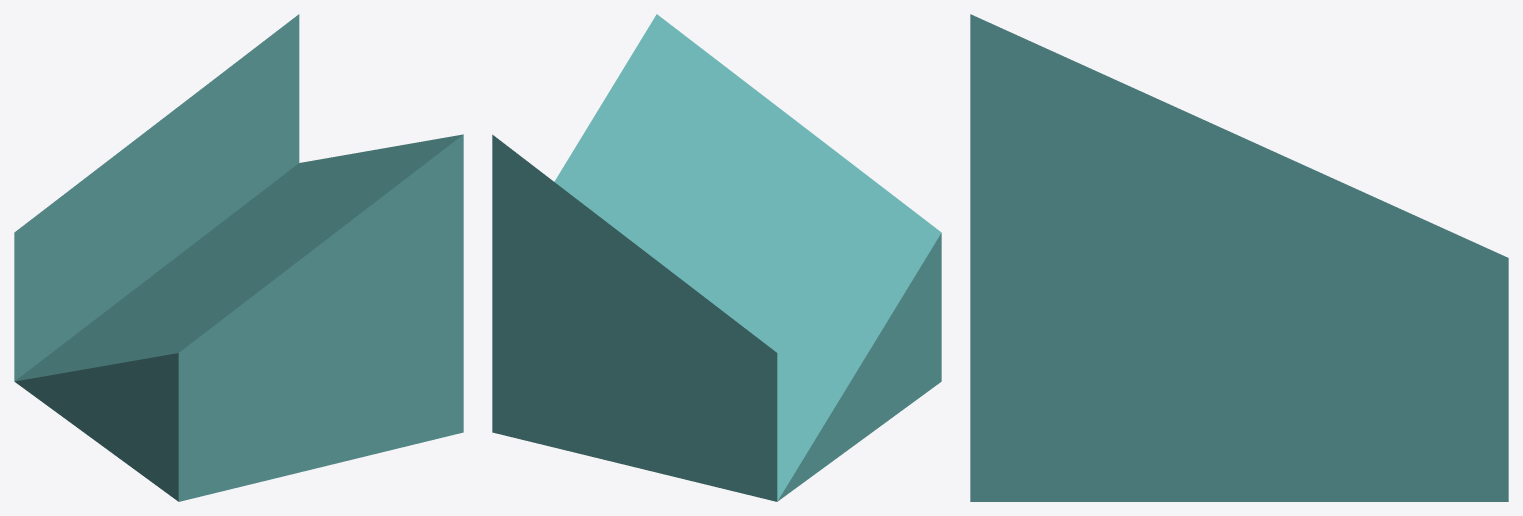
The model's file is OneWay_Corner.glb.
3 renders of one model, left to right at view 1: azimuth 30°, elevation 25°; view 2: azimuth 150°, elevation 25°; view 3: azimuth 270°, elevation 25°, orthographic. The views are drawn at different scales.
Visible parts, largest first — view 1: OneWay_Corner_body; view 2: OneWay_Corner_body; view 3: OneWay_Corner_body.
Part boxes in pixels (x1,y1,x2,y2): OneWay_Corner_body: [14, 14, 463, 501]; OneWay_Corner_body: [492, 14, 941, 501]; OneWay_Corner_body: [970, 14, 1508, 501].
Size of the model in its own units: 1 by 1 by 1.
